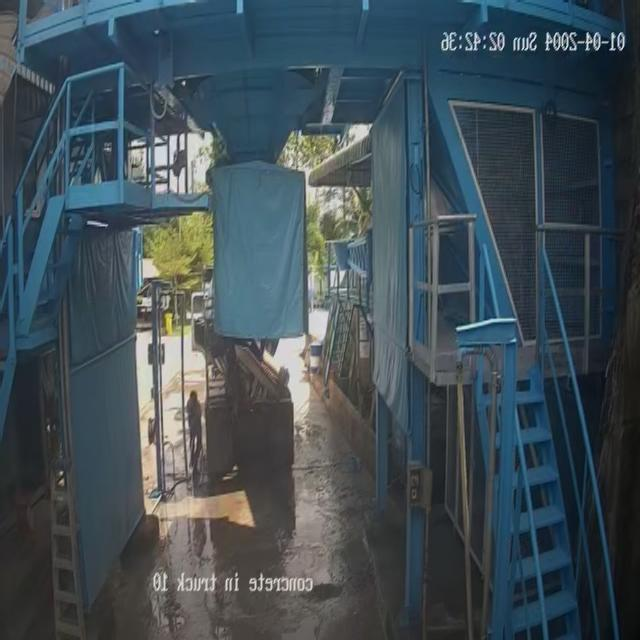cement_mixer_truck: (193, 270, 293, 473)
